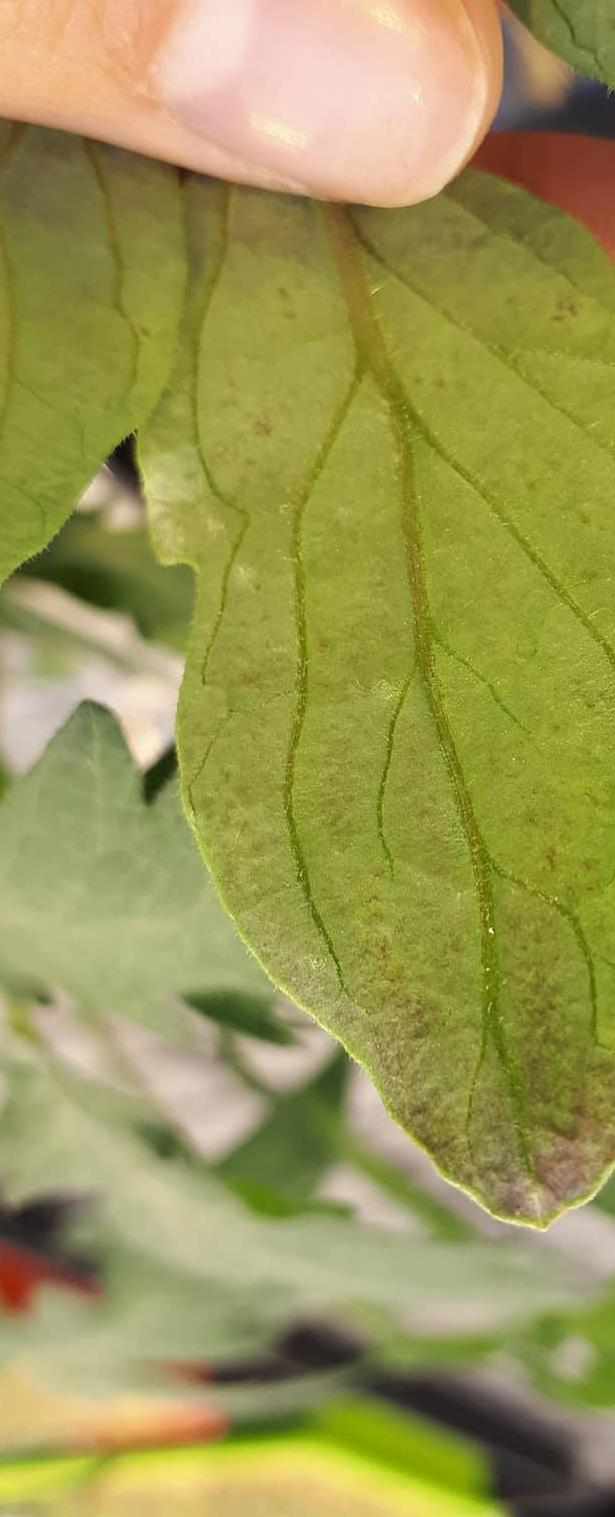Tomato mold leaf: (109, 77, 615, 1266)
